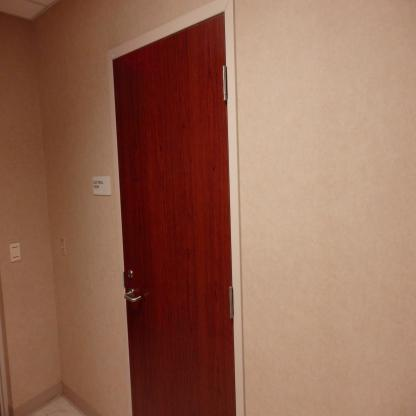door: (112, 13, 235, 415)
hinged: (228, 288, 235, 318), (222, 66, 228, 101)
lever: (124, 290, 144, 306)
